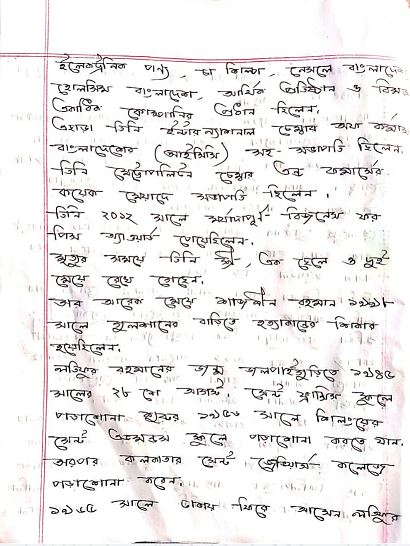line: (49, 497, 404, 528), (52, 52, 408, 82), (50, 378, 395, 408), (53, 75, 410, 103), (45, 449, 396, 477), (48, 426, 409, 452), (50, 114, 409, 140), (48, 137, 404, 163), (50, 286, 397, 312), (52, 359, 398, 385), (46, 204, 382, 230), (51, 406, 384, 432), (48, 311, 378, 336), (50, 246, 392, 270), (48, 159, 386, 183), (51, 97, 323, 121), (51, 183, 331, 205), (46, 224, 258, 249), (49, 273, 209, 292), (52, 472, 192, 493), (52, 336, 123, 358)
